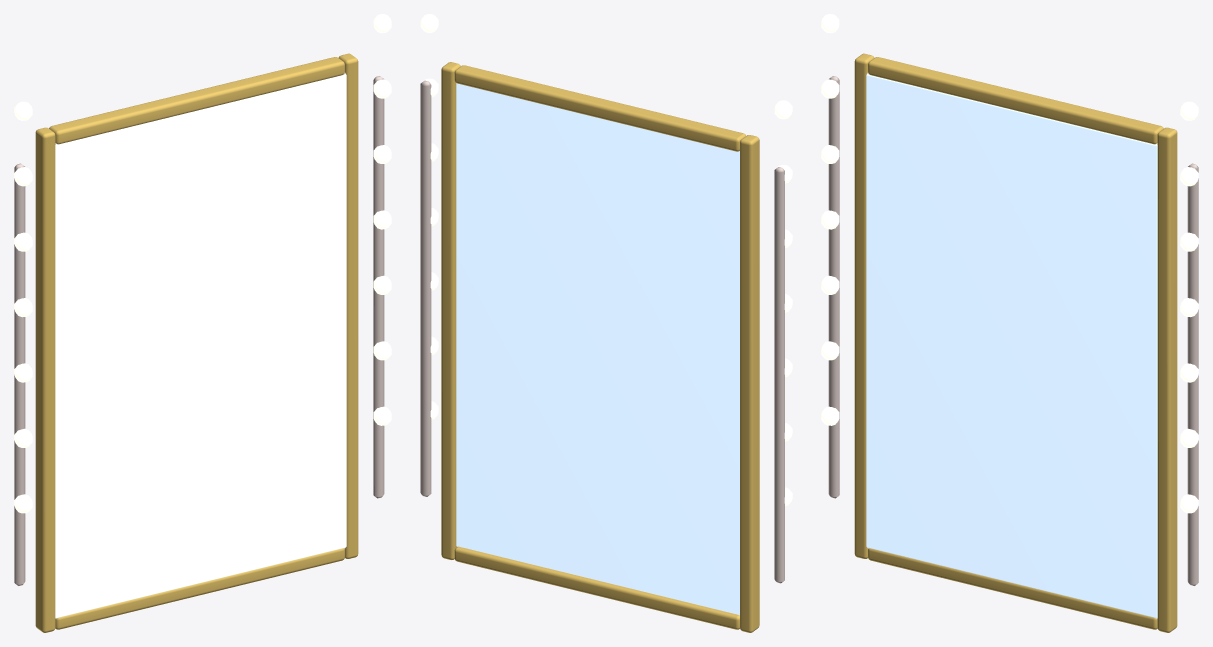
Rendered from vanity_mirror_wall.glb.
3 renders of one model, left to right at view 1: azimuth 30°, elevation 25°; view 2: azimuth 150°, elevation 25°; view 3: azimuth 330°, elevation 25°, orthographic.
Parts seen in each view (by area): view 1: vanity_mirror_wall; view 2: vanity_mirror_wall; view 3: vanity_mirror_wall.
Part boxes in pixels (x1,y1,x2,y2): vanity_mirror_wall: (14, 14, 391, 632); vanity_mirror_wall: (420, 14, 792, 632); vanity_mirror_wall: (821, 14, 1198, 632).
Bounding box in the file's own units: 1.4 × 1.92 × 0.1004.
